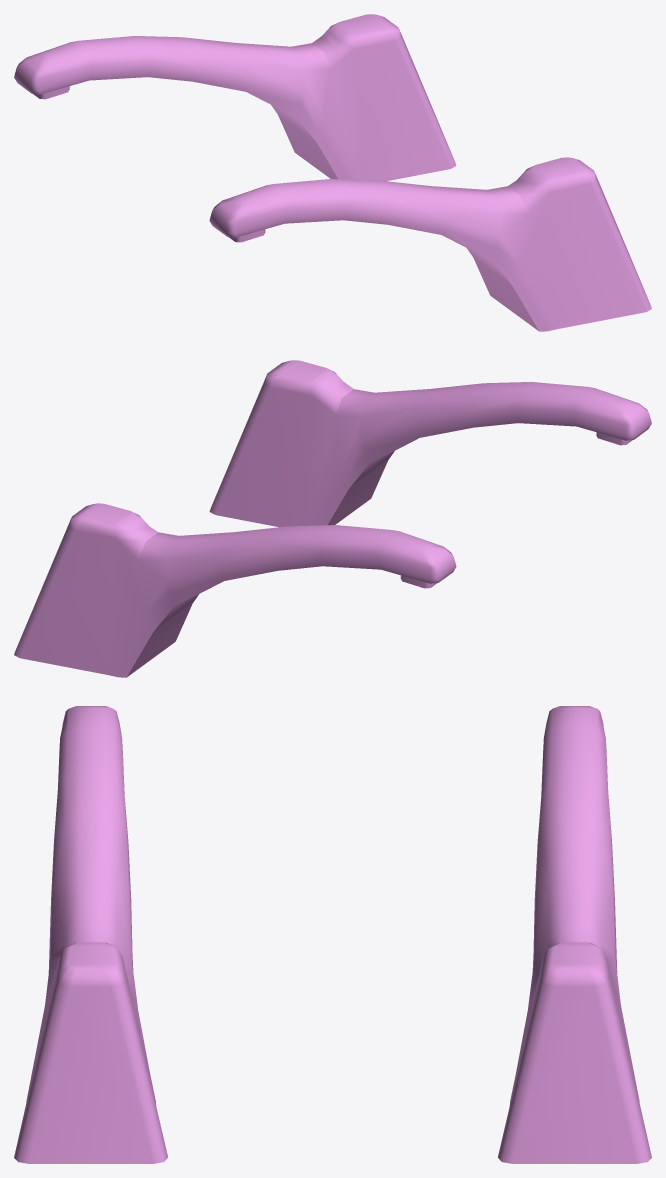
The model's file is Canillas.fbx.
The picture shows the model from 3 angles, top to bottom: view 1: azimuth 30°, elevation 25°; view 2: azimuth 150°, elevation 25°; view 3: azimuth 270°, elevation 25°; orthographic projection. The views are drawn at different scales.
Visible parts, largest first — view 1: Canillas; view 2: Canillas; view 3: Canillas.
Part boxes in pixels (bbox=[...]): Canillas: bbox=[14, 14, 651, 331]; Canillas: bbox=[14, 360, 651, 677]; Canillas: bbox=[14, 706, 651, 1163].
Size of the model in its own units: 0.0943 by 0.0409 by 0.1034.
